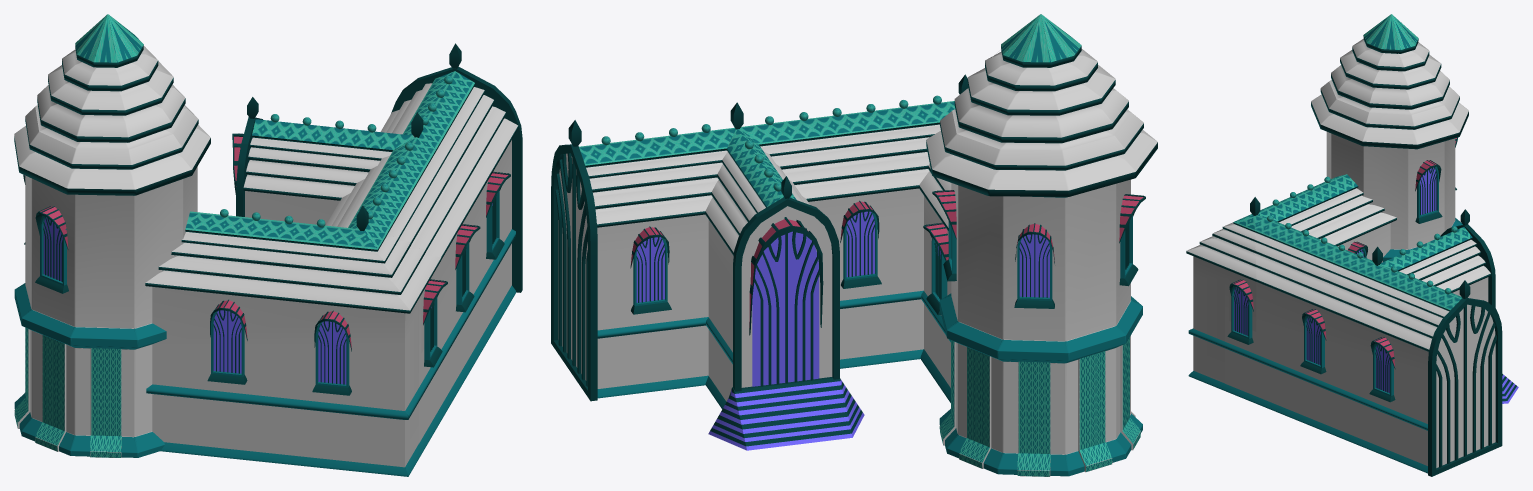
The model's file is Maison3.obj.
The picture shows the model from 3 angles, left to right: view 1: azimuth 30°, elevation 25°; view 2: azimuth 150°, elevation 25°; view 3: azimuth 270°, elevation 25°; orthographic projection. The views are drawn at different scales.
Visible parts, largest first — view 1: polySurface7542; view 2: polySurface7542; view 3: polySurface7542.
Boxes of the visible parts, x1,y1,x2,y2 form: polySurface7542: (14, 14, 522, 476); polySurface7542: (551, 14, 1157, 476); polySurface7542: (1186, 14, 1518, 476).
Bounding box in the file's own units: 1.93 × 1.4 × 1.4.
